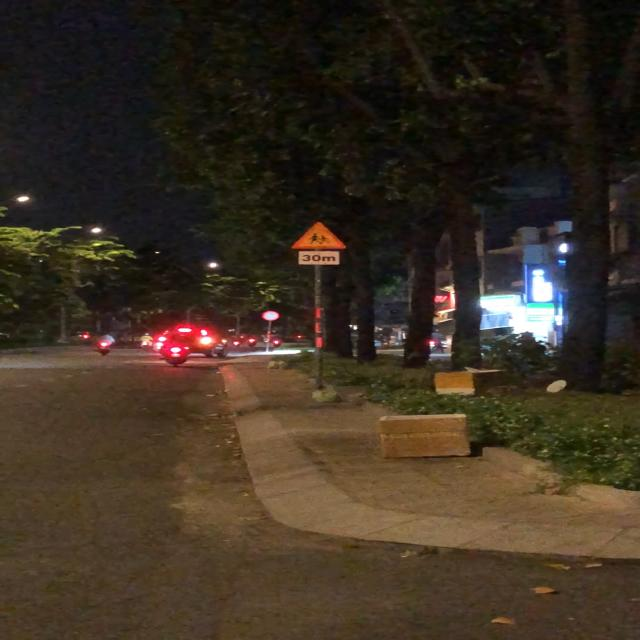Bien bao tre em: (286, 220, 350, 250)
